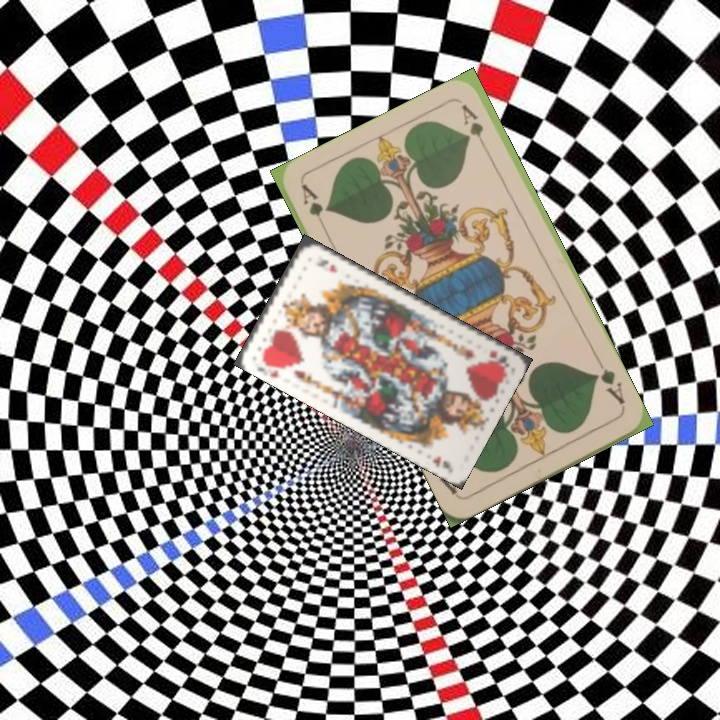GA: (589, 357, 628, 412), (297, 181, 331, 237)
HK: (486, 345, 511, 370), (252, 362, 282, 381)
